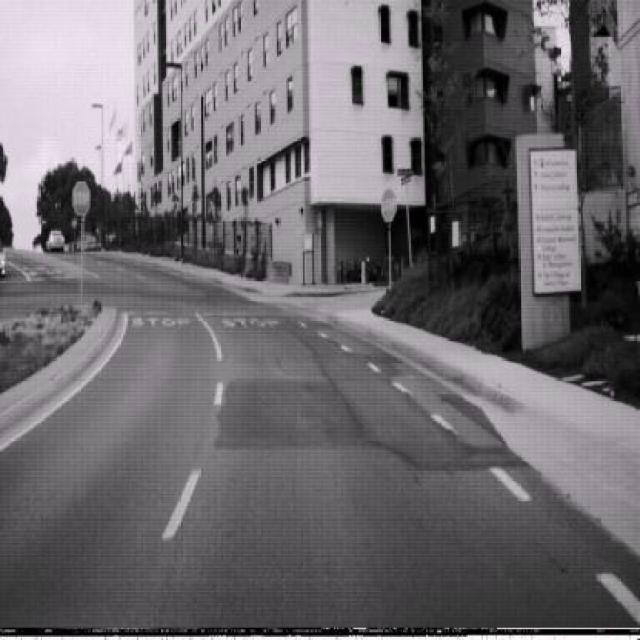stop: (72, 180, 91, 217), (380, 188, 397, 222)
